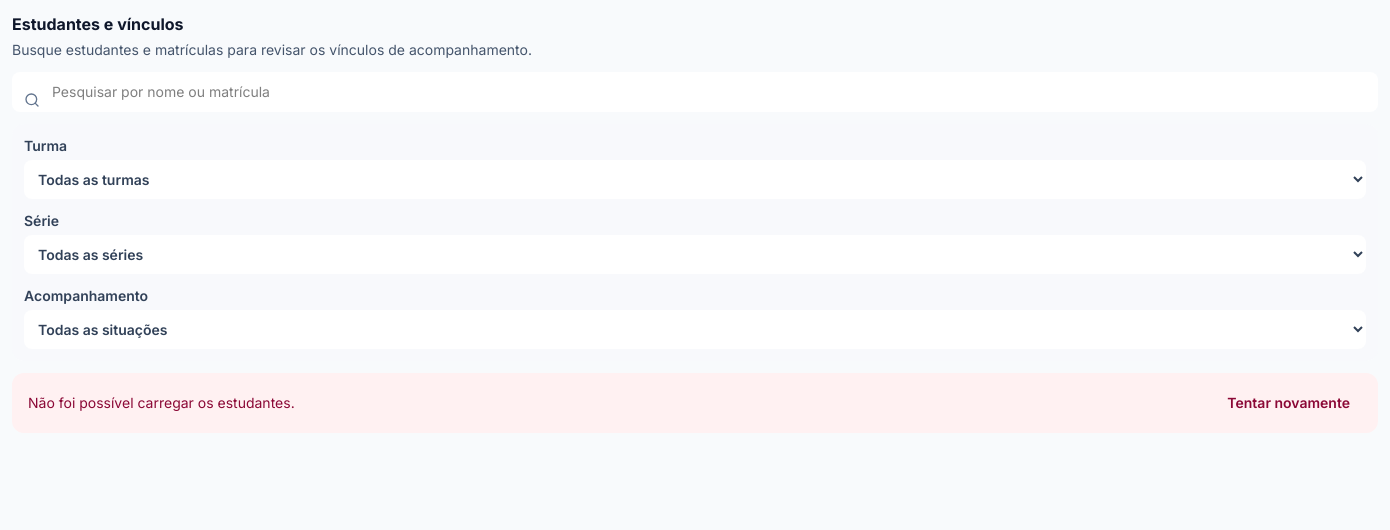
Test case: PsychologyStudentRoster › mostra erro e permite tentar a consulta novamente
This screenshot has width=1390, height=530.
Expected: the message "Não foi possível carregar os estudantes. Tentar novamente" is shown, [12,373,1378,433]
Step 1. Click the button "Tentar novamente" → (1289, 403), box [1215,385,1362,421]
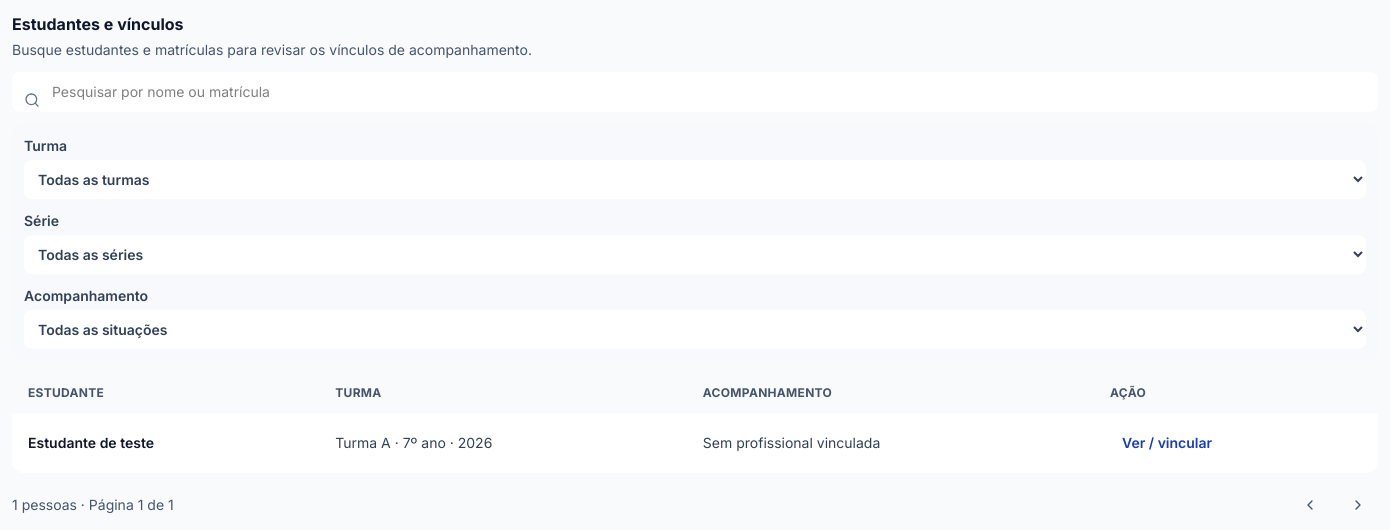
Result: the row "Estudante de teste" is shown at [12,413,1378,473]
